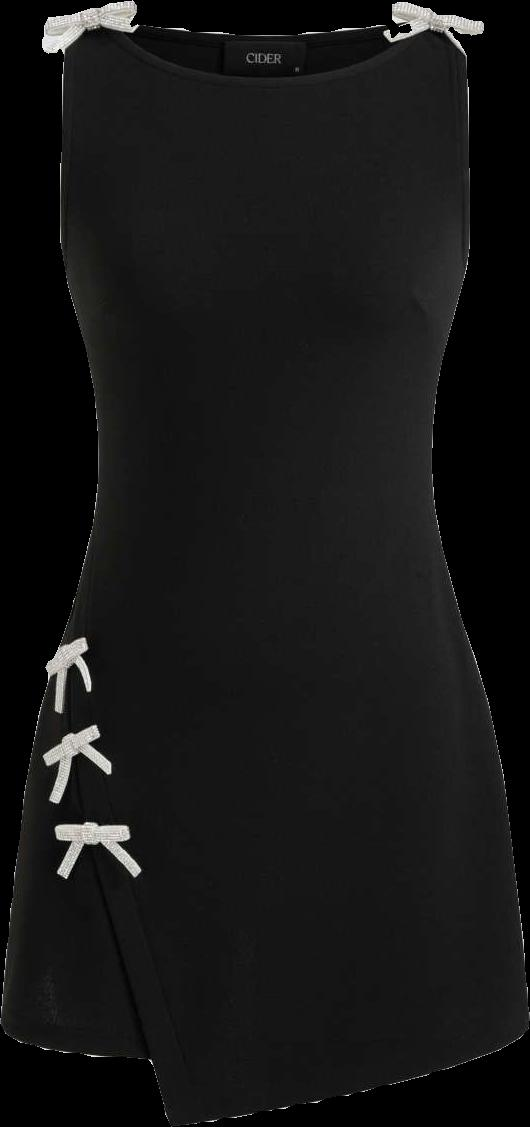Bodice: (42, 1, 483, 469)
Hemline: (46, 666, 529, 1126), (0, 1012, 156, 1061)
Neckline: (104, 6, 434, 80)
Skirt: (1, 469, 529, 1125)
